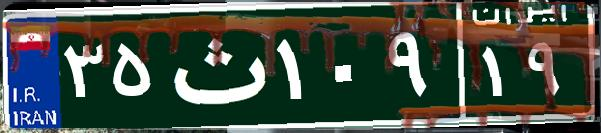0: (330, 28, 385, 110)
1: (273, 28, 330, 110), (475, 38, 525, 113)
3: (57, 26, 110, 107)
5: (110, 28, 158, 105)
9: (385, 28, 445, 110), (525, 38, 570, 115)
ث: (158, 15, 273, 115)
